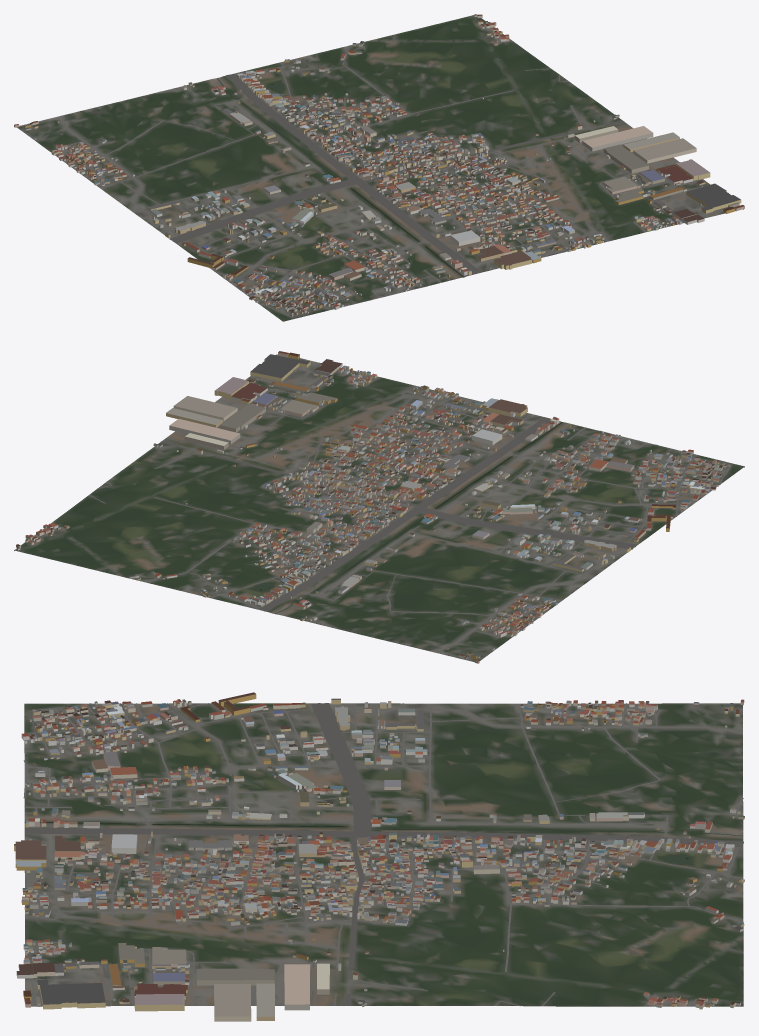
3 views of the same model, one above another, from view 1: azimuth 30°, elevation 25°; view 2: azimuth 150°, elevation 25°; view 3: azimuth 270°, elevation 25° (orthographic). The views are drawn at different scales.
Parts seen in each view (by area): view 1: ground, buildings, roads, water; view 2: ground, buildings, roads, water; view 3: ground, buildings, roads, water.
Part boxes in pixels (x1,y1,x2,y2): ground: [17, 15, 743, 321]; buildings: [14, 14, 744, 316]; roads: [27, 29, 723, 317]; water: [217, 78, 463, 277]; ground: [14, 356, 744, 661]; buildings: [16, 351, 729, 663]; roads: [35, 363, 731, 659]; water: [249, 422, 562, 613]; ground: [24, 703, 743, 1006]; buildings: [14, 692, 744, 1021]; roads: [23, 703, 743, 1006]; water: [25, 822, 742, 865].
Bounding box in the file's own units: 1501 × 19.81 × 1426.
